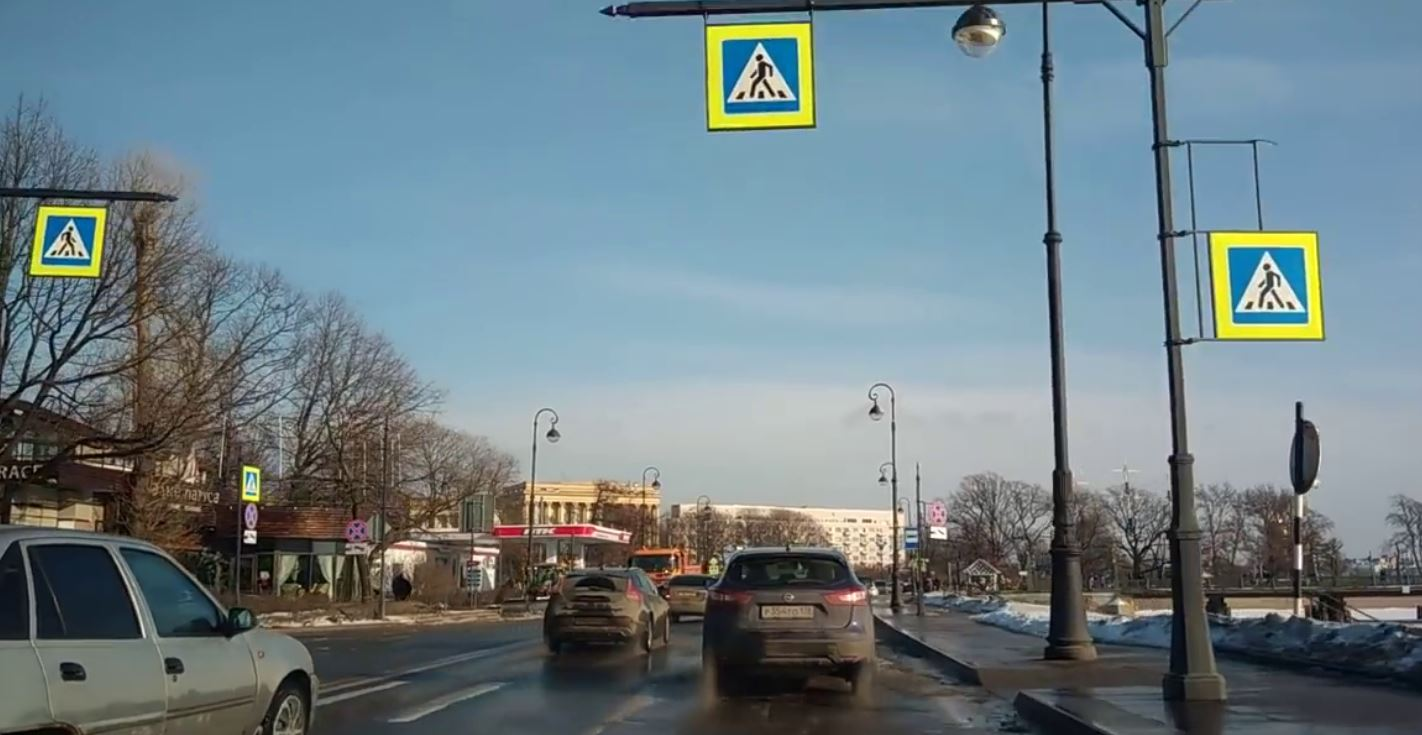Yaya Gecidi: (1225, 244, 1312, 324), (720, 34, 799, 117), (48, 209, 91, 268)
